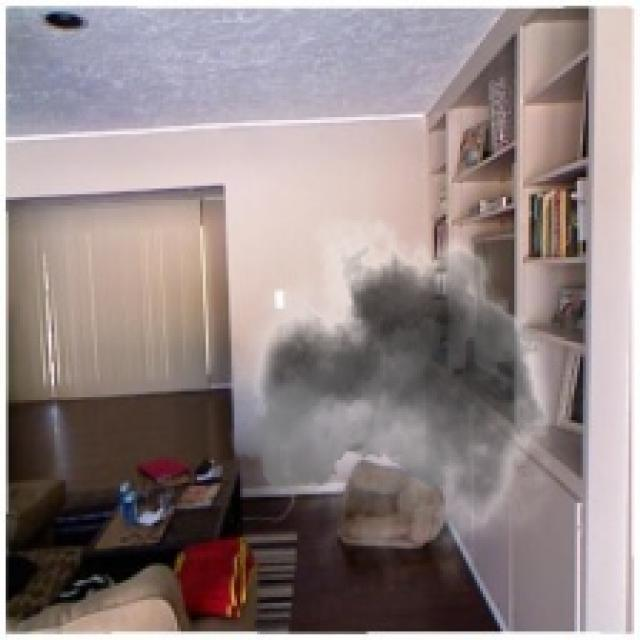Smoke: (228, 197, 574, 594)
